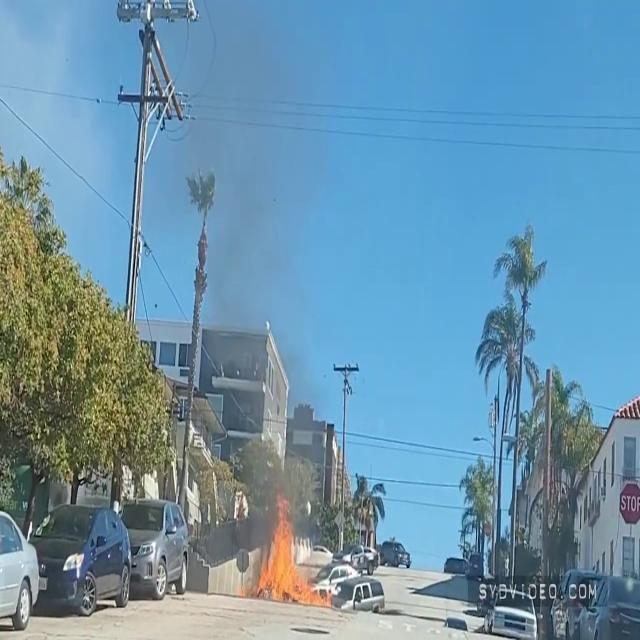Fire: (258, 497, 330, 606)
